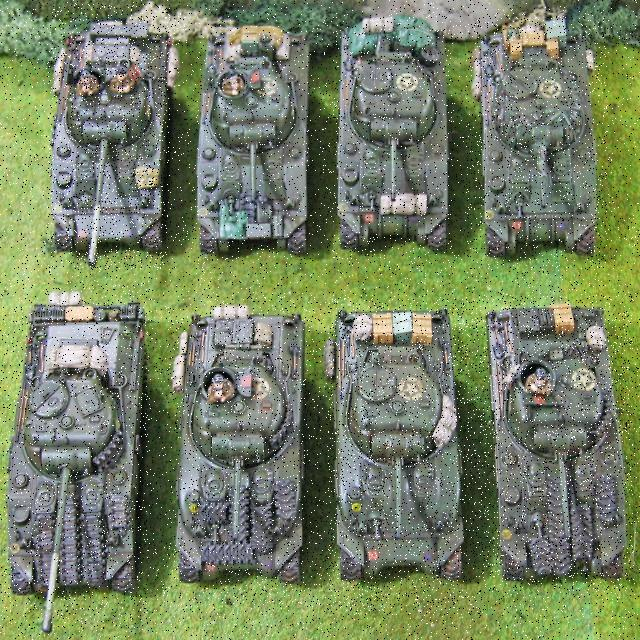MIL_MBT: (3, 281, 151, 630), (328, 300, 486, 615), (467, 296, 632, 591), (166, 295, 321, 607), (466, 14, 607, 270), (48, 5, 170, 270), (333, 15, 456, 261), (195, 14, 311, 266)
